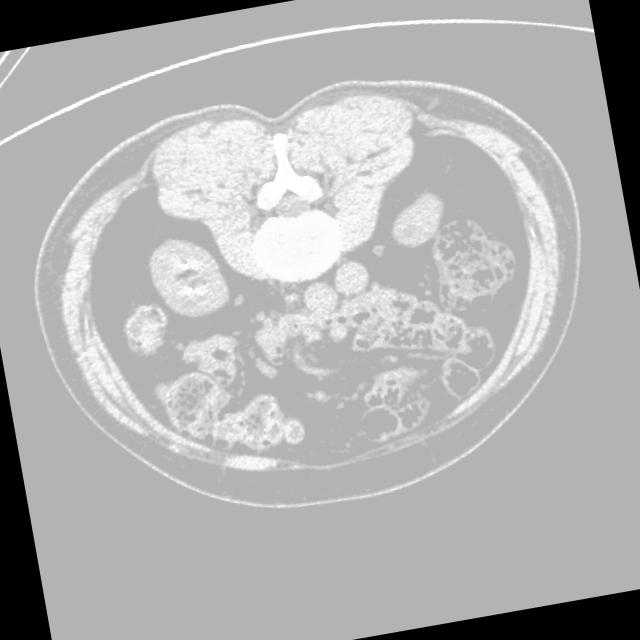STONE: (95, 89, 520, 426)
